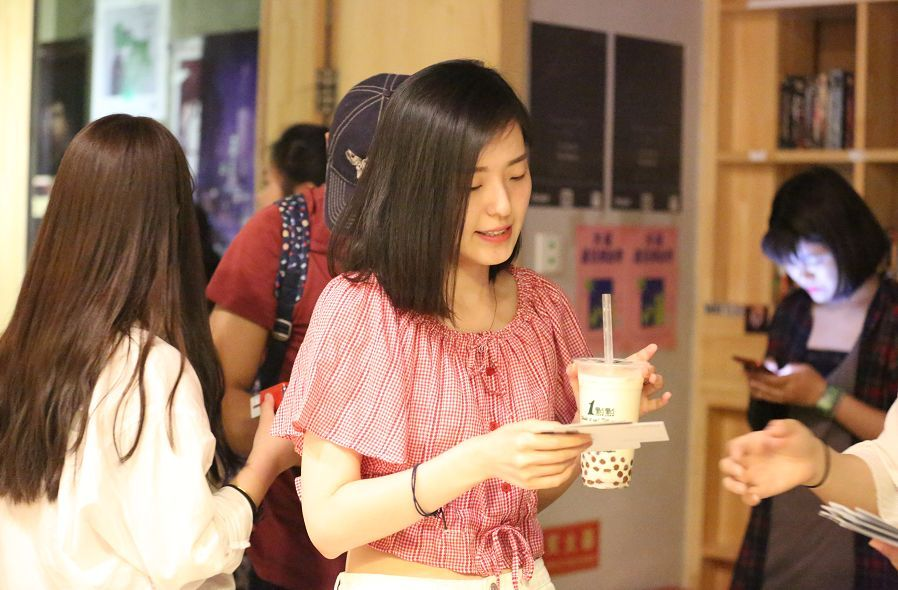other: (278, 56, 671, 575), (1, 108, 311, 585)
